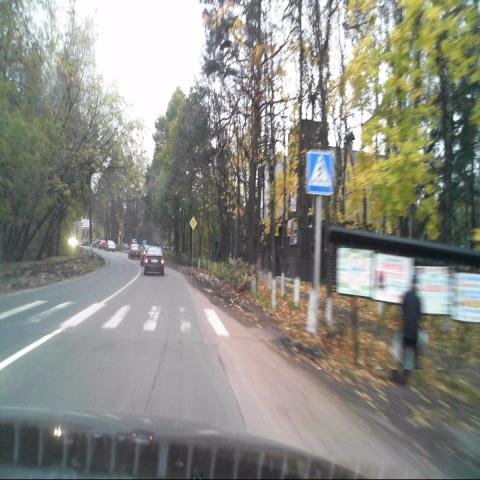5_19_1: (306, 149, 334, 195)
